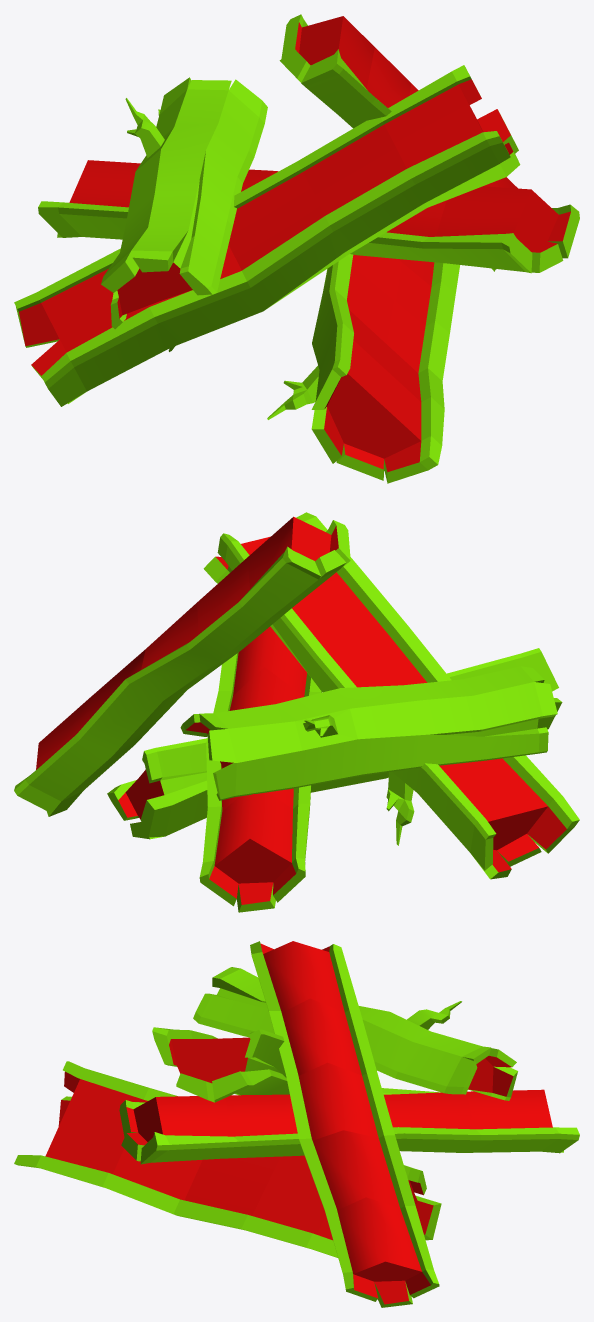
File: feuerholzvoll_no_uvs.fbx
The picture shows the model from 3 angles, top to bottom: view 1: azimuth 30°, elevation 25°; view 2: azimuth 150°, elevation 25°; view 3: azimuth 270°, elevation 25°; orthographic projection. The views are drawn at different scales.
Visible parts, largest first — view 1: holzscheithalb2, holzscheithalb3, holzscheithalb4, holzscheitdrittel, holzscheitdrittel2; view 2: holzscheithalb4, holzscheithalb2, holzscheitdrittel2, holzscheitdrittel, holzscheithalb3; view 3: holzscheitdrittel2, holzscheithalb3, holzscheitdrittel, holzscheithalb4, holzscheithalb2.
Part boxes in pixels (left/top/right/bottom): holzscheithalb2: left=14, top=65, right=520, bottom=406; holzscheithalb3: left=267, top=254, right=459, bottom=483; holzscheithalb4: left=101, top=77, right=267, bottom=329; holzscheitdrittel: left=38, top=160, right=579, bottom=273; holzscheitdrittel2: left=279, top=14, right=517, bottom=271; holzscheithalb4: left=180, top=666, right=557, bottom=800; holzscheithalb2: left=203, top=512, right=579, bottom=879; holzscheitdrittel2: left=14, top=516, right=350, bottom=816; holzscheitdrittel: left=199, top=626, right=321, bottom=912; holzscheithalb3: left=107, top=648, right=562, bottom=839; holzscheitdrittel2: left=250, top=941, right=439, bottom=1307; holzscheithalb3: left=14, top=1061, right=441, bottom=1257; holzscheitdrittel: left=119, top=1088, right=579, bottom=1164; holzscheithalb4: left=193, top=967, right=517, bottom=1100; holzscheithalb2: left=152, top=1027, right=289, bottom=1102.
Bounding box in the file's own units: 83.13 × 50.22 × 90.34.
